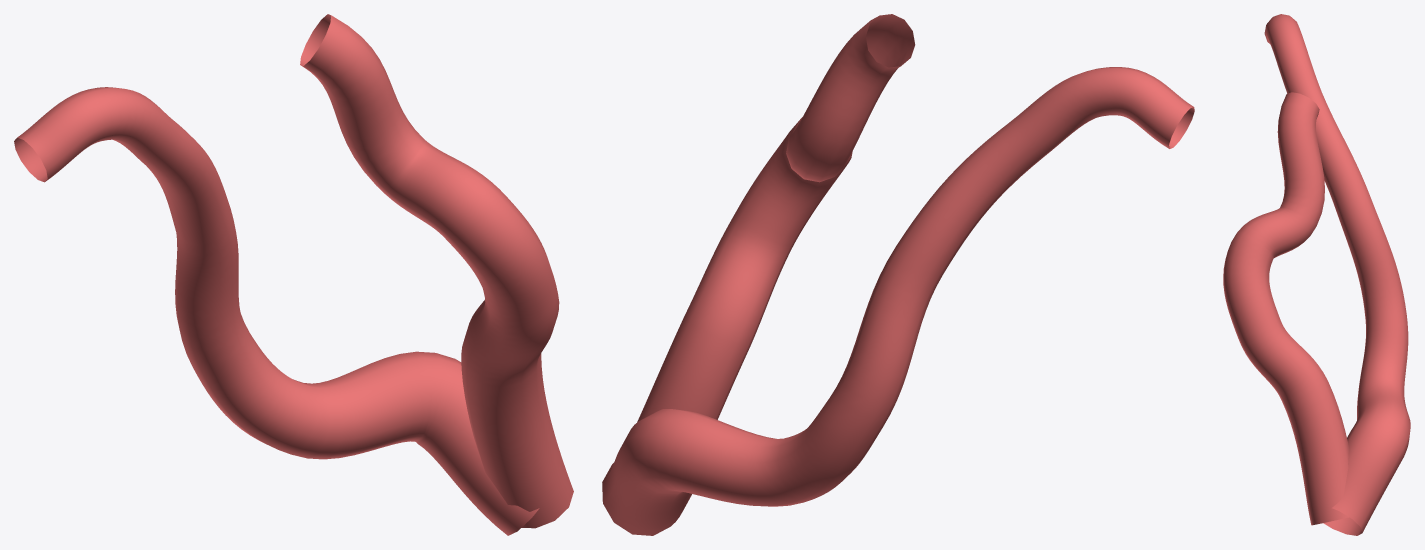
The model's file is Insular_arteries_(M2_segment_of_Middle_cerebral_artery).r_Bezie.glb.
3 renders of one model, left to right at view 1: azimuth 30°, elevation 25°; view 2: azimuth 150°, elevation 25°; view 3: azimuth 270°, elevation 25°, orthographic. The views are drawn at different scales.
Parts seen in each view (by area): view 1: Insular_arteries_(M2_segment_of_Middle_cerebral_artery).r_Be; view 2: Insular_arteries_(M2_segment_of_Middle_cerebral_artery).r_Be; view 3: Insular_arteries_(M2_segment_of_Middle_cerebral_artery).r_Be.
Part boxes in pixels (x1=…): Insular_arteries_(M2_segment_of_Middle_cerebral_artery).r_Be: x1=14, y1=14, x2=573, y2=535; Insular_arteries_(M2_segment_of_Middle_cerebral_artery).r_Be: x1=602, y1=14, x2=1194, y2=535; Insular_arteries_(M2_segment_of_Middle_cerebral_artery).r_Be: x1=1223, y1=14, x2=1410, y2=535.
Bounding box in the file's own units: 0.0203 × 0.0196 × 0.00887.
